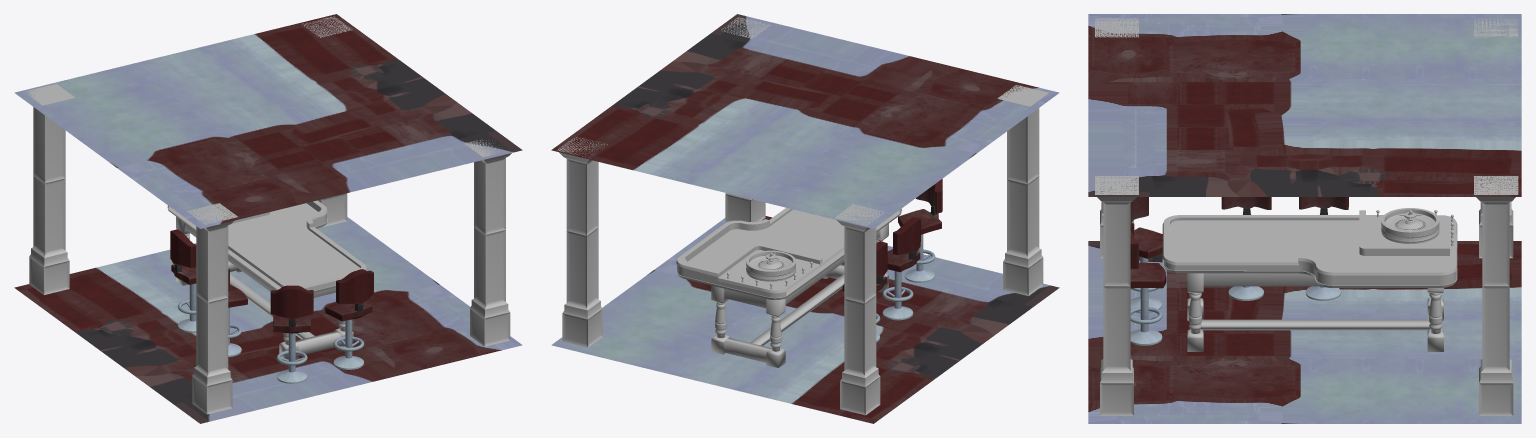
File: casino.fbx
3 renders of one model, left to right at view 1: azimuth 30°, elevation 25°; view 2: azimuth 150°, elevation 25°; view 3: azimuth 270°, elevation 25°, orthographic. The views are drawn at different scales.
Parts seen in each view (by area): view 1: pPlane2, pPlane1, polySurface36, pCube5, pCube6, pCube4, polySurface9, polySurface39, polySurface38, pCube3, polySurface37; view 2: pPlane2, pPlane1, polySurface36, pCube6, pCube3, pCube5, polySurface37, polySurface9, pCube4, polySurface38; view 3: pPlane2, pPlane1, polySurface36, pCube3, pCube4, polySurface39, polySurface9, pCube6, polySurface37, pCube5, polySurface38.
Boxes of the visible parts, x1,y1,x2,y2 form: pPlane2: [14, 14, 522, 228]; pPlane1: [14, 217, 522, 423]; polySurface36: [167, 200, 367, 359]; pCube5: [186, 203, 237, 414]; pCube6: [26, 84, 75, 294]; pCube4: [464, 139, 511, 346]; polySurface9: [270, 285, 313, 383]; polySurface39: [325, 269, 373, 369]; polySurface38: [170, 229, 196, 332]; pCube3: [302, 16, 352, 227]; polySurface37: [228, 268, 247, 356]; pPlane2: [551, 14, 1059, 228]; pPlane1: [551, 216, 1059, 423]; polySurface36: [676, 207, 902, 367]; pCube6: [834, 204, 885, 415]; pCube3: [557, 137, 607, 347]; pCube5: [997, 85, 1048, 295]; polySurface37: [882, 217, 920, 320]; polySurface9: [898, 179, 942, 282]; pCube4: [721, 17, 770, 222]; polySurface38: [842, 241, 887, 341]; pPlane2: [1088, 14, 1521, 196]; pPlane1: [1088, 241, 1521, 423]; polySurface36: [1162, 208, 1457, 351]; pCube3: [1474, 176, 1518, 415]; pCube4: [1095, 176, 1138, 415]; polySurface39: [1130, 223, 1166, 345]; polySurface9: [1130, 197, 1162, 313]; pCube6: [1474, 18, 1518, 258]; polySurface37: [1221, 197, 1271, 300]; pCube5: [1095, 18, 1138, 258]; polySurface38: [1299, 197, 1348, 300].
Size of the model in its own units: 1416 by 820 by 1416.
